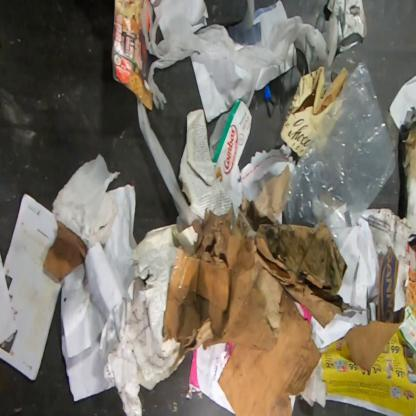cardboard: (162, 206, 322, 416), (239, 164, 350, 329), (99, 242, 187, 415), (111, 0, 153, 112), (42, 220, 90, 282), (367, 207, 412, 261), (401, 121, 415, 235)
soft_plastic: (283, 62, 396, 252), (327, 0, 368, 53)
